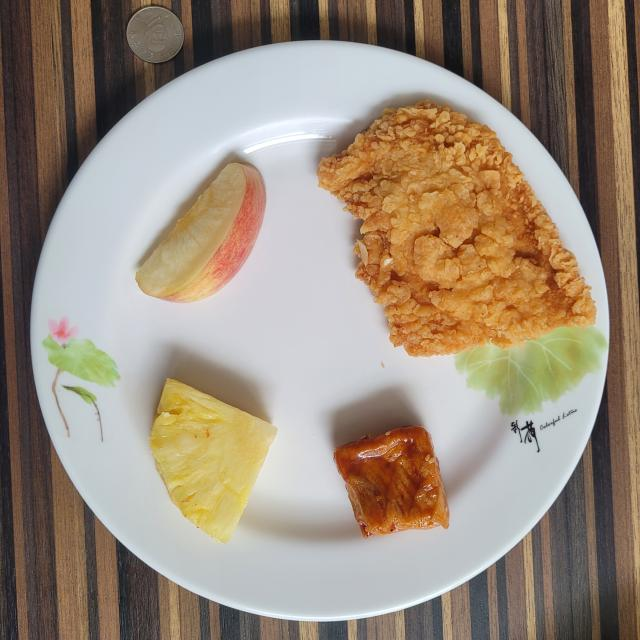apple -sliced-: (136, 162, 266, 302)
coin: (126, 6, 184, 62)
creamy tofu: (334, 426, 449, 538)
fried chicken cutlet: (318, 101, 595, 356)
pineapple: (150, 379, 278, 542)
